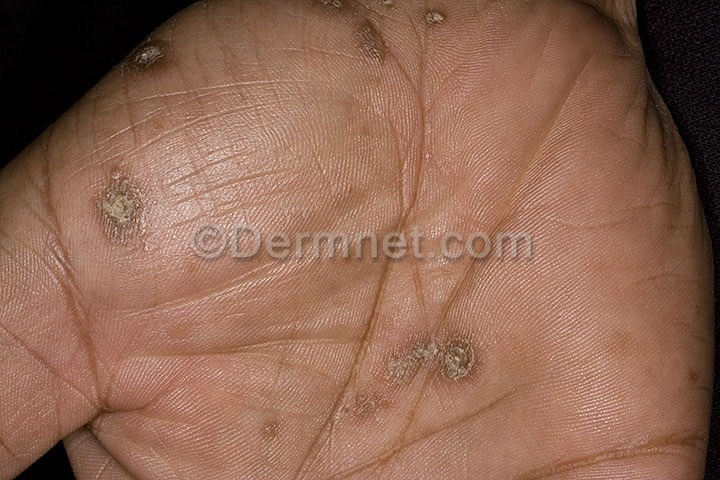Psoriasis: (312, 304, 516, 426), (306, 1, 500, 83), (80, 152, 163, 242), (110, 37, 175, 76)
